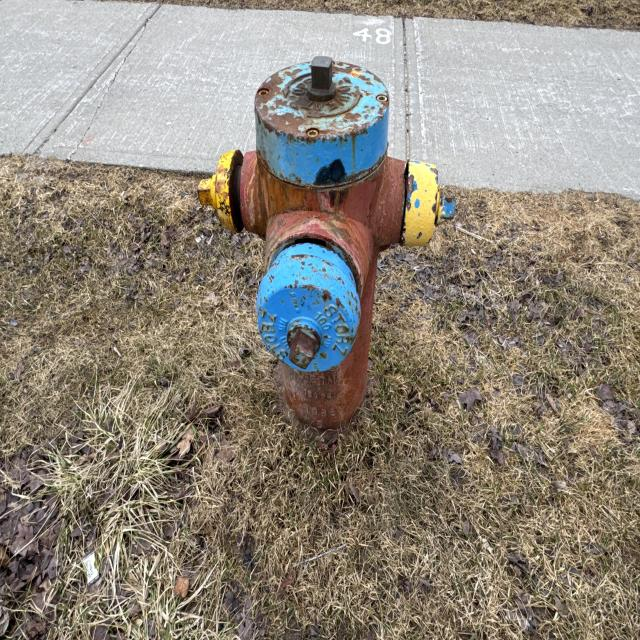Fire hydrant: (196, 82, 458, 446)
